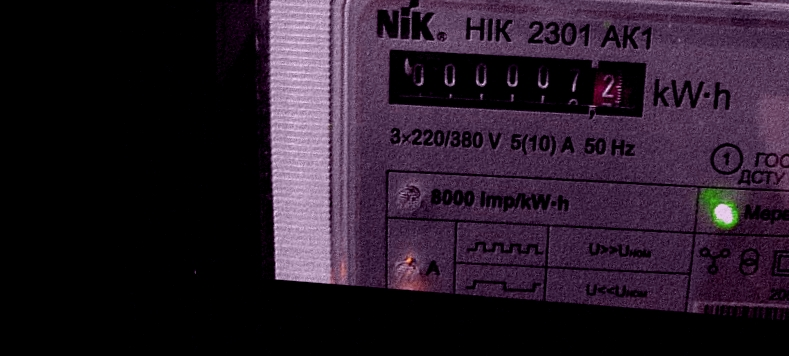0: (503, 61, 523, 89), (409, 59, 428, 88), (472, 59, 491, 88), (535, 62, 553, 91), (441, 60, 459, 88)
2: (600, 72, 618, 100)
7: (566, 64, 584, 95)
screen: (375, 36, 659, 130)
